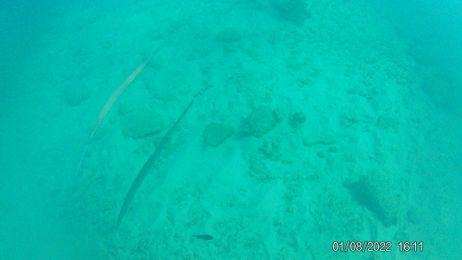Fistularia commersonii: (88, 50, 202, 227)
